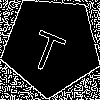T: (26, 21, 70, 75)
